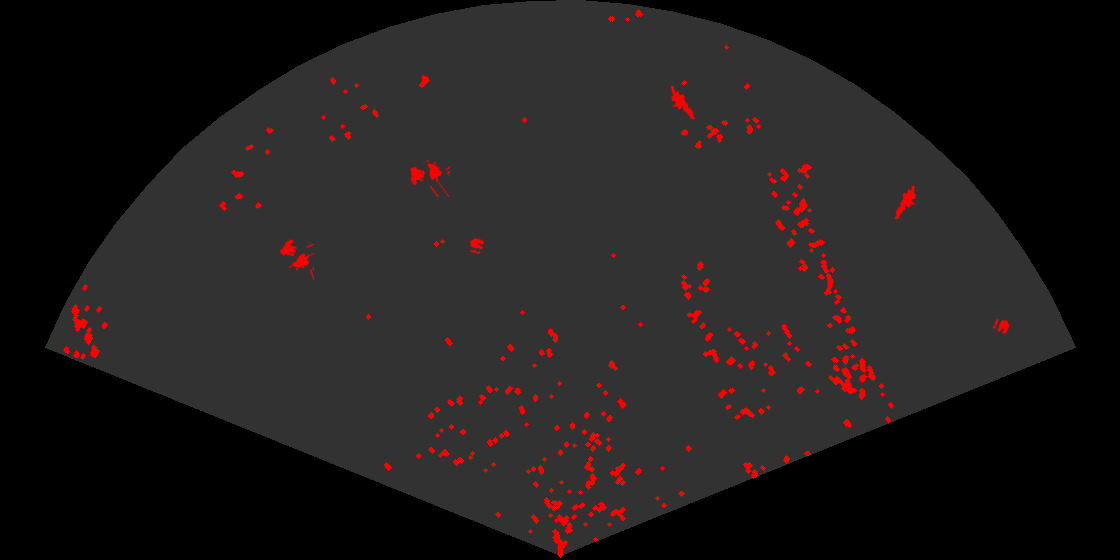ball: (991, 317, 1011, 336), (468, 236, 486, 255)
cage: (408, 158, 450, 197), (278, 237, 314, 280)
frogman: (669, 86, 696, 123), (893, 186, 918, 223)
